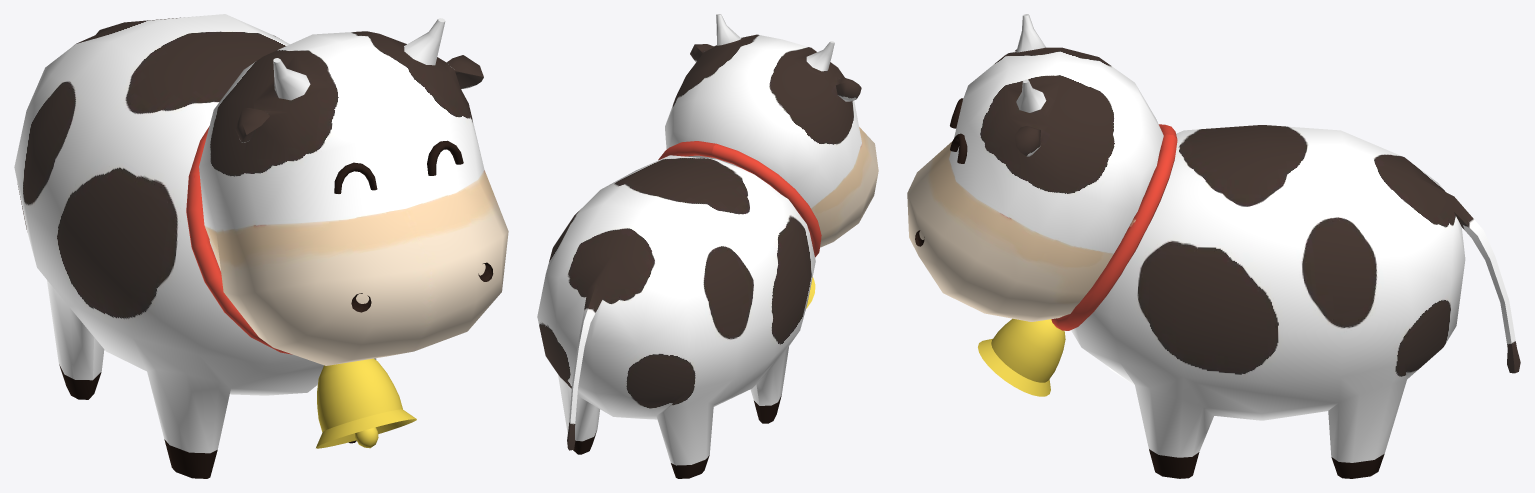
File: plush_bunny.glb
3 views of the same model, side by side, from view 1: azimuth 30°, elevation 25°; view 2: azimuth 150°, elevation 25°; view 3: azimuth 270°, elevation 25° (orthographic). The views are drawn at different scales.
Visible parts, largest first — view 1: Object_4, Object_7, Object_5; view 2: Object_4, Object_5; view 3: Object_4, Object_7, Object_5.
Boxes of the visible parts, x1,y1,x2,y2 form: Object_4: (14,14,508,453); Object_7: (316,358,416,448); Object_5: (59,140,493,478); Object_4: (537,14,878,465); Object_5: (573,395,781,478); Object_4: (907,14,1520,462); Object_7: (978,318,1065,396); Object_5: (915,98,1384,478).
Size of the model in its own units: 2.03 by 3.07 by 4.33.
3 materials, 1 textured.
